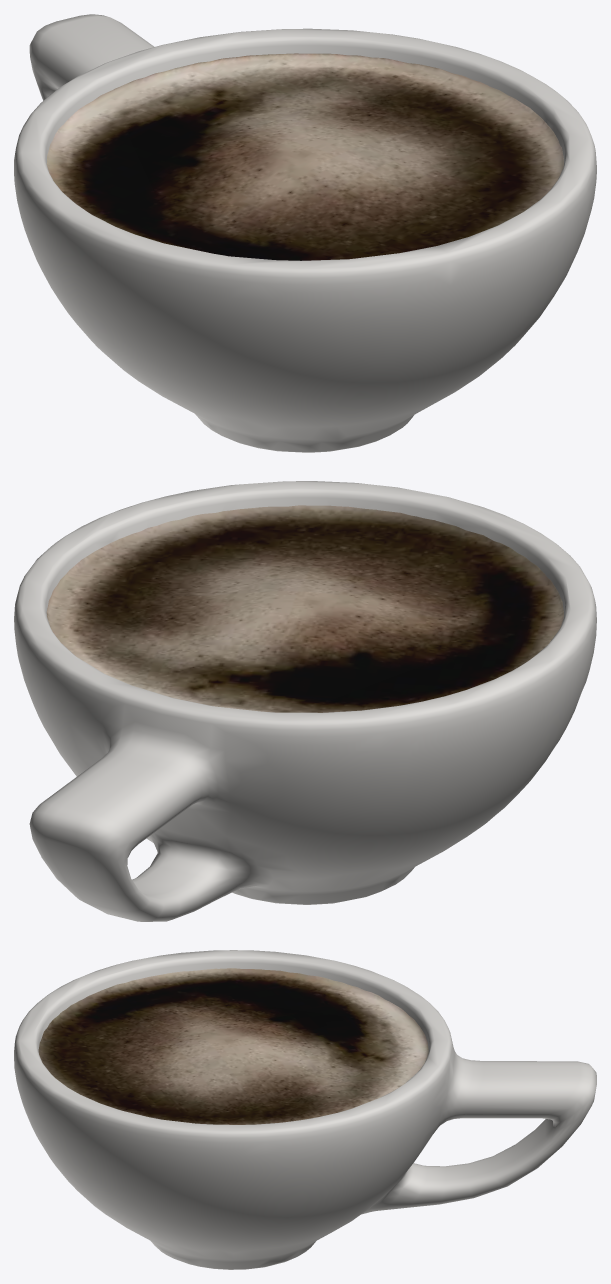
The model's file is espresso-cup.glb.
3 renders of one model, top to bottom at view 1: azimuth 30°, elevation 25°; view 2: azimuth 150°, elevation 25°; view 3: azimuth 270°, elevation 25°, orthographic. The views are drawn at different scales.
Visible parts, largest first — view 1: Cup, Coffee; view 2: Cup, Coffee; view 3: Cup, Coffee.
Boxes of the visible parts, <box> form: Cup: <box>14,14,596,452</box>; Coffee: <box>46,53,563,260</box>; Cup: <box>14,481,596,921</box>; Coffee: <box>46,505,563,712</box>; Cup: <box>14,950,596,1269</box>; Coffee: <box>38,968,428,1124</box>.
Bounding box in the file's own units: 1.94 × 0.9609 × 2.58.
2 materials, 1 textured.
